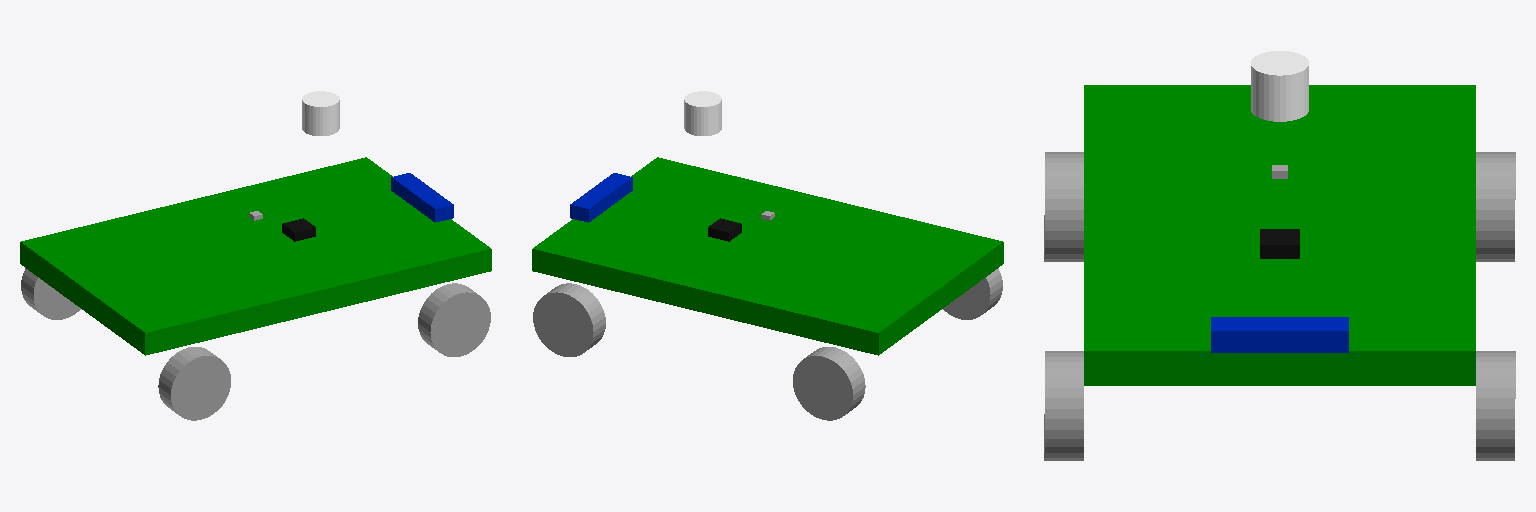
The robot description file, URDF, robot "amr":
<?xml version="1.0"?>
<robot name="amr">
    <material name="grey">
        <color rgba="0.7 0.7 0.7 1" />
    </material>
    
    <material name="green">
        <color rgba="0 0.6 0 1" />
    </material>

    <material name="white">
        <color rgba="1 1 1 1" />
    </material>

    <material name="black">
        <color rgba="0.1 0.1 0.1 1" />
    </material>

    <material name="blue">
        <color rgba="0 0.2 0.8 1" />
    </material>

    
    <link name="base_footprint" />

    <link name="base_link">
        <visual>
            <geometry>
                <box size="0.8 0.5 0.05" />
            </geometry>
            <origin xyz="0 0 0.1" rpy="0 0 0" />
            <material name="green" />
        </visual>

        <collision>
            <geometry>
                <box size="0.8 0.5 0.05" />
            </geometry>
            <origin xyz="0 0 0.1" rpy="0 0 0" />
        </collision>

        <inertial>
            <origin xyz="0 0 0.1" rpy="0 0 0" />
            <mass value="2.25" />
            <inertia 
                ixx="0.04734"
                iyy="0.12047"
                izz="0.16688"
                ixy="0"
                ixz="0"
                iyz="0"
            />
        </inertial>
    </link>

    <link name="lidar_3d">
        <visual>
            <geometry>
                <cylinder radius="0.0375" length="0.065" />
            </geometry>
            <origin xyz="0 0 0" rpy="0 0 0" />
            <material name="white" />
        </visual>

        <collision>
            <geometry>
                <cylinder radius="0.0375" length="0.065" />
            </geometry>
            <origin xyz="0 0 0" rpy="0 0 0" />
        </collision>

        <inertial>
            <origin xyz="0 0 0" rpy="0 0 0" />
            <mass value="0.23" />
            <!-- Cylinder inertia -->
            <inertia 
                ixx="0.00016184"
                iyy="0.00016184"
                izz="0.00016172"
                ixy="0"
                ixz="0"
                iyz="0"
            />
        </inertial>
    </link>

    <link name="camera_link">
        <visual>
            <geometry>
                <box size="0.1753 0.0431 0.0303" />
            </geometry>
            <origin xyz="0 0 0" rpy="0 0 1.571" />
            <material name="blue" />
        </visual>

        <collision>
            <geometry>
                <box size="0.1753 0.0431 0.0303" />
            </geometry>
            <origin xyz="0 0 0" rpy="0 0 1.571" />
        </collision>

        <inertial>
            <origin xyz="0 0 0" rpy="0 0 1.571" />
            <mass value="0.230" />
            <inertia 
                ixx="0.532"
                iyy="6.066"
                izz="6.246"
                ixy="0"
                ixz="0"
                iyz="0"
            />
        </inertial>
    </link>

    <link name="camera_depth_frame" />

    <link name="imu_link">
        <visual>
            <geometry>
                <box size="0.02 0.02 0.01" />
            </geometry>
            <origin xyz="0 0 0" rpy="0 0 0" />
            <material name="grey" />
        </visual>

        <collision>
            <geometry>
                <box size="0.02 0.02 0.01" />
            </geometry>
            <origin xyz="0 0 0" rpy="0 0 0" />
        </collision>

        <inertial>
            <origin xyz="0 0 0" rpy="0 0 0" />
            <mass value="0.05" />
            <inertia 
                ixx="0.0000020833"
                iyy="0.0000020833"
                izz="0.000003333"
                ixy="0"
                ixz="0"
                iyz="0"
            />
        </inertial>
    </link>

    <link name="navsat_link">
        <visual>
            <geometry>
                <box size="0.05 0.05 0.02" />
            </geometry>
            <origin xyz="0 0 0" rpy="0 0 0" />
            <material name="black" />
        </visual>

        <collision>
            <geometry>
                <box size="0.05 0.05 0.02" />
            </geometry>
            <origin xyz="0 0 0" rpy="0 0 0" />
        </collision>

        <inertial>
            <origin xyz="0 0 0" rpy="0 0 0" />
            <mass value="0.05" />
            <inertia 
                ixx="0.000012083"
                iyy="0.000012083"
                izz="0.000020833"
                ixy="0"
                ixz="0"
                iyz="0"
            />
        </inertial>
    </link>

    <link name="front_left_wheel">
        <visual>
            <geometry>
                <cylinder radius="0.07" length="0.05" />
            </geometry>
            <origin xyz="0 0 0" rpy="1.57 0 0" />
            <material name="grey" />
        </visual>

        <collision>
            <geometry>
                <cylinder radius="0.07" length="0.05" />
            </geometry>
            <origin xyz="0 0 0" rpy="1.57 0 0" />
        </collision>

        <inertial>
            <origin xyz="0 0 0" rpy="1.57 0 0" />
            <mass value="0.5" />
            <inertia
                ixx="0.0007167"
                iyy="0.0007167"
                izz="0.001225"
                ixy="0"
                ixz="0"
                iyz="0"/>
        </inertial>
    </link>

    <link name="back_left_wheel">
        <visual>
            <geometry>
                <cylinder radius="0.07" length="0.05" />
            </geometry>
            <origin xyz="0 0 0" rpy="1.57 0 0" />
            <material name="grey" />
        </visual>

        <collision>
            <geometry>
                <cylinder radius="0.07" length="0.05" />
            </geometry>
            <origin xyz="0 0 0" rpy="1.57 0 0" />
        </collision>

        <inertial>
            <origin xyz="0 0 0" rpy="1.57 0 0" />
            <mass value="0.5" />
            <inertia
                ixx="0.0007167"
                iyy="0.0007167"
                izz="0.001225"
                ixy="0"
                ixz="0"
                iyz="0"/>
        </inertial>
    </link>

    <link name="front_right_wheel">
        <visual>
            <geometry>
                <cylinder radius="0.07" length="0.05" />
            </geometry>
            <origin xyz="0 0 0" rpy="1.57 0 0" />
            <material name="grey" />
        </visual>

        <collision>
            <geometry>
                <cylinder radius="0.07" length="0.05" />
            </geometry>
            <origin xyz="0 0 0" rpy="1.57 0 0" />
        </collision>

        <inertial>
            <origin xyz="0 0 0" rpy="1.57 0 0" />
            <mass value="0.5" />
             <inertia
                ixx="0.0007167"
                iyy="0.0007167"
                izz="0.001225"
                ixy="0"
                ixz="0"
                iyz="0"/>
            </inertial>
    </link>

    <link name="back_right_wheel">
        <visual>
            <geometry>
                <cylinder radius="0.07" length="0.05" />
            </geometry>
            <origin xyz="0 0 0" rpy="1.57 0 0" />
            <material name="grey" />
        </visual>

        <collision>
            <geometry>
                <cylinder radius="0.07" length="0.05" />
            </geometry>
            <origin xyz="0 0 0" rpy="1.57 0 0" />
        </collision>

        <inertial>
            <origin xyz="0 0 0" rpy="1.57 0 0" />
            <mass value="0.5" />
            <inertia
                ixx="0.0007167"
                iyy="0.0007167"
                izz="0.001225"
                ixy="0"
                ixz="0"
                iyz="0"/>
            </inertial>
    </link>

    <joint name="base_joint" type="fixed">
        <parent link="base_footprint" />
        <child link="base_link" />
        <origin xyz="0 0 0.1" rpy="0 0 0" />
    </joint>

    <joint name="base_lidar_3d_joint" type="fixed">
        <parent link="base_link" />
        <child link="lidar_3d" />
        <origin xyz="0.15 0 0.38" rpy="0 0 0" />
    </joint>

    <joint name="camera_joint" type="fixed">
        <parent link="base_link" />
        <child link="camera_link" />
        <origin xyz="0.385 0 0.14" rpy="0 0 0" />
    </joint>

    <joint name="camera_depth_joint" type="fixed">
        <parent link="camera_link" />
        <child link="camera_depth_frame" />
        <origin xyz="0 0 0" rpy="0 0 0" />
    </joint>

    <joint name="imu_joint" type="fixed">
        <parent link="base_link" />
        <child link="imu_link" />
        <origin xyz="0 0 0.19" rpy="0 0 0" />
    </joint>

    <joint name="navsat_joint" type="fixed">
        <parent link="base_link" />
        <child link="navsat_link" />
        <origin xyz="0.1 0 0.135" rpy="0 0 0" />
    </joint>

    <joint name="base_front_left_wheel_joint" type="continuous">
        <parent link="base_link" />
        <child link="front_left_wheel" />
        <origin xyz="0.3 0.275 0" rpy="0 0 0" />
        <axis xyz="0 1 0" />
        <dynamics damping="1.0" friction="0.1"/>
    </joint>

    <joint name="base_front_right_wheel_joint" type="continuous">
        <parent link="base_link" />
        <child link="front_right_wheel" />
        <origin xyz="0.3 -0.275 0" rpy="0 0 0" />
        <axis xyz="0 1 0" />
        <dynamics damping="1.0" friction="0.1"/>
    </joint>

    <joint name="base_back_left_wheel_joint" type="continuous">
        <parent link="base_link" />
        <child link="back_left_wheel" />
        <origin xyz="-0.3 0.275 0" rpy="0 0 0" />
        <axis xyz="0 1 0" />
        <dynamics damping="1.0" friction="0.1"/>
    </joint>

    <joint name="base_back_right_wheel_joint" type="continuous">
        <parent link="base_link" />
        <child link="back_right_wheel" />
        <origin xyz="-0.3 -0.275 0" rpy="0 0 0" />
        <axis xyz="0 1 0" />
        <dynamics damping="1.0" friction="0.1"/>
    </joint>

    <gazebo reference="base_link">
        <material>Gazebo/Green</material>
    </gazebo>

    <gazebo reference="lidar_3d">
        <material>Gazebo/White</material>
    </gazebo>

    <gazebo reference="camera_link">
        <material>Gazebo/Black</material>
    </gazebo>

    <gazebo reference="imu_link">
        <material>Gazebo/Grey</material>
    </gazebo>

    <gazebo reference="navsat_link">
        <material>Gazebo/Black</material>
    </gazebo>

    <gazebo reference="lidar_3d">
        <sensor name="lidar_3d_sensor" type="gpu_lidar">
            <topic>lidar_3d</topic>
            <update_rate>15</update_rate>
            <gz_frame_id>lidar_3d</gz_frame_id>
            <lidar>
                <scan>
                    <horizontal>
                        <!-- <samples>720</samples> -->
                        <samples>360</samples>
                        <resolution>1</resolution>
                        <min_angle>-3.14</min_angle>
                        <max_angle>3.14</max_angle>
                    </horizontal>
                    <vertical>
                        <samples>64</samples>
                        <resolution>1</resolution>
                        <min_angle>-0.26</min_angle>
                        <max_angle>0.26</max_angle>
                    </vertical>
                </scan>
                <range>
                    <min>0.15</min>
                    <max>10.0</max>
                </range>
            </lidar>
            <always_on>true</always_on>
        </sensor>
    </gazebo>

    <gazebo reference="camera_link">
        <sensor name="depth_camera" type="rgbd_camera">
        <!-- <sensor name="depth_camera" type="depth_camera"> -->
            <update_rate>15</update_rate>
            <topic>camera</topic>
            <gz_frame_id>camera_link</gz_frame_id>
            <camera>
                <horizontal_fov>1.5708</horizontal_fov>
                <image>
                    <!-- <width>640</width>
                    <height>480</height> -->
                    <width>320</width>
                    <height>240</height>
                    <!-- <width>120</width>
                    <height>100</height> -->
                    <format>R8G8B8</format>
                </image>
                <clip>
                    <near>0.1</near>
                    <far>10.0</far>
                </clip>
            </camera>
            <always_on>1</always_on>
            <visualize>true</visualize>
        </sensor>
    </gazebo>

    <gazebo reference="imu_link">
        <sensor name="imu_sensor" type="imu">
            <update_rate>50</update_rate>
            <topic>imu</topic>
            <gz_frame_id>imu_link</gz_frame_id>
            <always_on>1</always_on>
            <imu>
                <orientation_reference_frame>
                    <localization>ENU</localization>
                </orientation_reference_frame>
                <angular_velocity>
                    <x><noise type="gaussian"><mean>0.0</mean><stddev>2e-4</stddev></noise></x>
                    <y><noise type="gaussian"><mean>0.0</mean><stddev>2e-4</stddev></noise></y>
                    <z><noise type="gaussian"><mean>0.0</mean><stddev>2e-4</stddev></noise></z>
                </angular_velocity>
                <linear_acceleration>
                    <x><noise type="gaussian"><mean>0.0</mean><stddev>1.7e-2</stddev></noise></x>
                    <y><noise type="gaussian"><mean>0.0</mean><stddev>1.7e-2</stddev></noise></y>
                    <z><noise type="gaussian"><mean>0.0</mean><stddev>1.7e-2</stddev></noise></z>
                </linear_acceleration>
            </imu>
        </sensor>
    </gazebo>

    <gazebo reference="navsat_link">
        <sensor name="navsat" type="navsat">
            <always_on>1</always_on>
            <update_rate>10</update_rate>
            <topic>navsat</topic>
            <gz_frame_id>navsat_link</gz_frame_id>
        </sensor>
    </gazebo>

    <gazebo>
        <plugin filename="gz-sim-diff-drive-system" name="gz::sim::systems::DiffDrive">
            <left_joint>base_front_left_wheel_joint</left_joint>
            <left_joint>base_back_left_wheel_joint</left_joint>
            <right_joint>base_front_right_wheel_joint</right_joint>
            <right_joint>base_back_right_wheel_joint</right_joint>
            <wheel_separation>0.55</wheel_separation>
            <wheel_radius>0.07</wheel_radius>
            <odom_publish_frequency>50</odom_publish_frequency>
            <max_linear_acceleration>1.0</max_linear_acceleration>
            <max_angular_acceleration>0.4</max_angular_acceleration>
            <topic>cmd_vel</topic>
            <odom_topic>odom</odom_topic>
            <frame_id>odom</frame_id>
            <child_frame_id>base_footprint</child_frame_id>
        </plugin>
    </gazebo>

    <gazebo reference="front_left_wheel">
        <mu1>0.5</mu1>
        <mu2>0.5</mu2>
        <!-- <slip1>0.02</slip1>
        <slip2>0.02</slip2>
        <kp>100000</kp>
        <kd>1</kd> -->
    </gazebo>

    <gazebo reference="front_right_wheel">
        <mu1>0.5</mu1>
        <mu2>0.5</mu2>
        <!-- <slip1>0.02</slip1>
        <slip2>0.02</slip2>
        <kp>100000</kp>
        <kd>1</kd> -->
    </gazebo>

    <gazebo reference="back_left_wheel">
        <mu1>0.2</mu1>
        <mu2>0.2</mu2>
        <!-- <slip1>0.02</slip1>
        <slip2>0.02</slip2>
        <kp>100000</kp>
        <kd>1</kd> -->
    </gazebo>

    <gazebo reference="back_right_wheel">
        <mu1>0.2</mu1>
        <mu2>0.2</mu2>
        <!-- <slip1>0.02</slip1>
        <slip2>0.02</slip2>
        <kp>100000</kp>
        <kd>1</kd> -->
    </gazebo>
</robot>

--- Render facts (derived) ---
Views: 3 orthographic renders of the robot side by side, from view 1: azimuth 30°, elevation 25°; view 2: azimuth 150°, elevation 25°; view 3: azimuth 270°, elevation 25°.
Robot: amr — 11 links, 10 joints (4 continuous, 6 fixed); root link base_footprint; default pose: every joint at zero.
Links seen in each view (by area): view 1: base_link, front_right_wheel, back_right_wheel, camera_link, lidar_3d, back_left_wheel, navsat_link; view 2: base_link, front_left_wheel, back_left_wheel, camera_link, lidar_3d, back_right_wheel, navsat_link; view 3: base_link, camera_link, front_left_wheel, back_left_wheel, front_right_wheel, back_right_wheel, lidar_3d, navsat_link.
Boxes of the visible links, x1,y1,x2,y2 form: base_link: (20, 157, 491, 355); front_right_wheel: (418, 283, 490, 356); back_right_wheel: (158, 347, 230, 420); camera_link: (391, 173, 453, 222); lidar_3d: (302, 91, 339, 135); back_left_wheel: (21, 268, 80, 319); navsat_link: (282, 218, 315, 241); base_link: (532, 157, 1003, 355); front_left_wheel: (533, 283, 605, 356); back_left_wheel: (793, 347, 865, 420); camera_link: (570, 173, 632, 222); lidar_3d: (684, 91, 721, 135); back_right_wheel: (943, 268, 1002, 319); navsat_link: (708, 218, 741, 241); base_link: (1084, 85, 1475, 385); camera_link: (1211, 317, 1348, 352); front_left_wheel: (1476, 351, 1515, 460); back_left_wheel: (1476, 152, 1515, 261); front_right_wheel: (1044, 351, 1083, 460); back_right_wheel: (1044, 152, 1083, 261); lidar_3d: (1251, 51, 1308, 121); navsat_link: (1260, 229, 1299, 258).
Bounding box of the posed robot: 0.8066 × 0.6001 × 0.4825 m (x, y, z).
Geometry: primitives only (box / cylinder / sphere), no mesh files.
